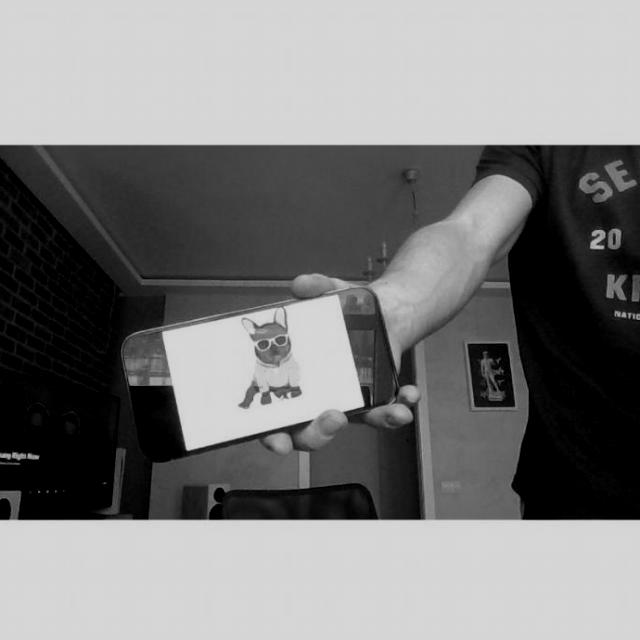fake: (120, 284, 406, 462)
